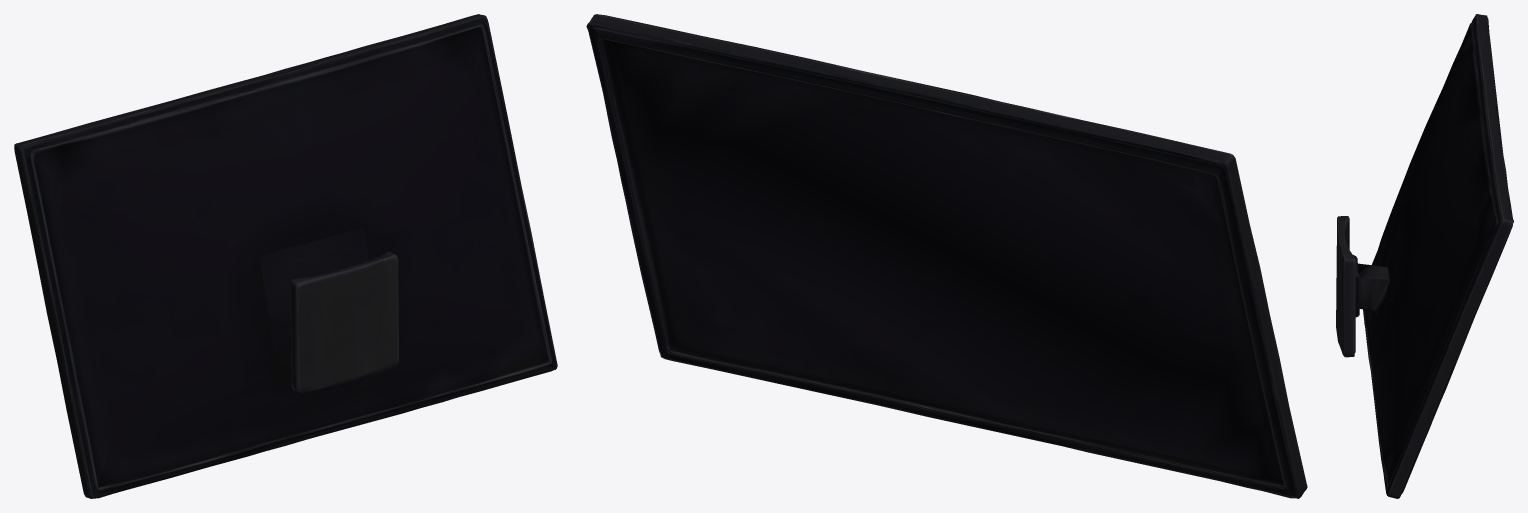
File: SM_WallDecor_Monitor_01.glb
The picture shows the model from 3 angles, left to right: view 1: azimuth 30°, elevation 25°; view 2: azimuth 150°, elevation 25°; view 3: azimuth 270°, elevation 25°; orthographic projection. The views are drawn at different scales.
Visible parts, largest first — view 1: tripo_node_f6277a22-90a6-4bb5-b97d-66def7006bba; view 2: tripo_node_f6277a22-90a6-4bb5-b97d-66def7006bba; view 3: tripo_node_f6277a22-90a6-4bb5-b97d-66def7006bba.
Part boxes in pixels (bbox=[...]): tripo_node_f6277a22-90a6-4bb5-b97d-66def7006bba: bbox=[14, 14, 557, 498]; tripo_node_f6277a22-90a6-4bb5-b97d-66def7006bba: bbox=[586, 14, 1307, 498]; tripo_node_f6277a22-90a6-4bb5-b97d-66def7006bba: bbox=[1336, 14, 1513, 498].
Bounding box in the file's own units: 0.998 × 0.6152 × 0.3535.
Materials: 1 (1 with a texture image).
